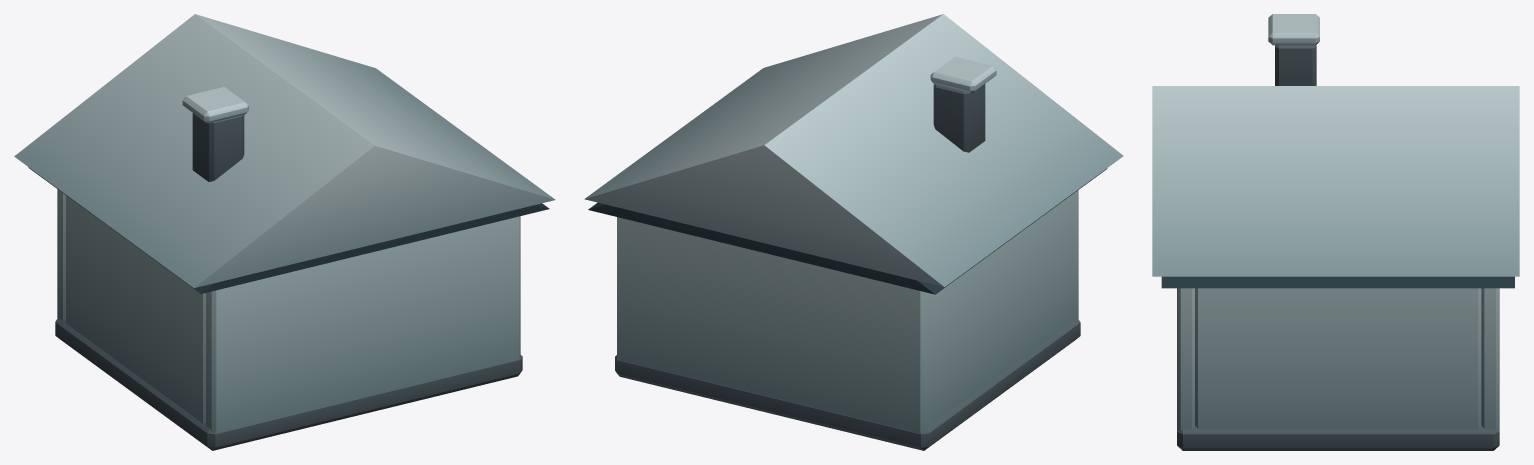
Rendered from snowhouse-shell.glb.
The picture shows the model from 3 angles, left to right: view 1: azimuth 30°, elevation 25°; view 2: azimuth 150°, elevation 25°; view 3: azimuth 270°, elevation 25°; orthographic projection. The views are drawn at different scales.
Visible parts, largest first — view 1: WorldSnowhouseShellR13_R13 Snowhouse Roof Snow_Batch, WorldSnowhouseShellR13_R13 Snowhouse Frost Plaster_Batch, WorldSnowhouseShellR13_R13 Snowhouse Foundation_Batch, WorldSnowhouseShellR13_R13 Snowhouse Roof Charcoal_Batch; view 2: WorldSnowhouseShellR13_R13 Snowhouse Roof Snow_Batch, WorldSnowhouseShellR13_R13 Snowhouse Frost Plaster_Batch, WorldSnowhouseShellR13_R13 Snowhouse Foundation_Batch, WorldSnowhouseShellR13_R13 Snowhouse Roof Charcoal_Batch; view 3: WorldSnowhouseShellR13_R13 Snowhouse Roof Snow_Batch, WorldSnowhouseShellR13_R13 Snowhouse Frost Plaster_Batch, WorldSnowhouseShellR13_R13 Snowhouse Foundation_Batch, WorldSnowhouseShellR13_R13 Snowhouse Roof Charcoal_Batch.
Part boxes in pixels (x1=…): WorldSnowhouseShellR13_R13 Snowhouse Roof Snow_Batch: x1=14, y1=14, x2=555, y2=287; WorldSnowhouseShellR13_R13 Snowhouse Frost Plaster_Batch: x1=57, y1=189, x2=520, y2=433; WorldSnowhouseShellR13_R13 Snowhouse Foundation_Batch: x1=55, y1=113, x2=522, y2=450; WorldSnowhouseShellR13_R13 Snowhouse Roof Charcoal_Batch: x1=28, y1=167, x2=549, y2=293; WorldSnowhouseShellR13_R13 Snowhouse Roof Snow_Batch: x1=584, y1=14, x2=1123, y2=286; WorldSnowhouseShellR13_R13 Snowhouse Frost Plaster_Batch: x1=617, y1=190, x2=1078, y2=433; WorldSnowhouseShellR13_R13 Snowhouse Foundation_Batch: x1=615, y1=84, x2=1080, y2=450; WorldSnowhouseShellR13_R13 Snowhouse Roof Charcoal_Batch: x1=588, y1=168, x2=1107, y2=294; WorldSnowhouseShellR13_R13 Snowhouse Roof Snow_Batch: x1=1152, y1=14, x2=1519, y2=276; WorldSnowhouseShellR13_R13 Snowhouse Frost Plaster_Batch: x1=1177, y1=288, x2=1499, y2=430; WorldSnowhouseShellR13_R13 Snowhouse Foundation_Batch: x1=1177, y1=45, x2=1499, y2=450; WorldSnowhouseShellR13_R13 Snowhouse Roof Charcoal_Batch: x1=1161, y1=276, x2=1514, y2=288.
Bounding box in the file's own units: 5.62 × 4.42 × 4.84.
